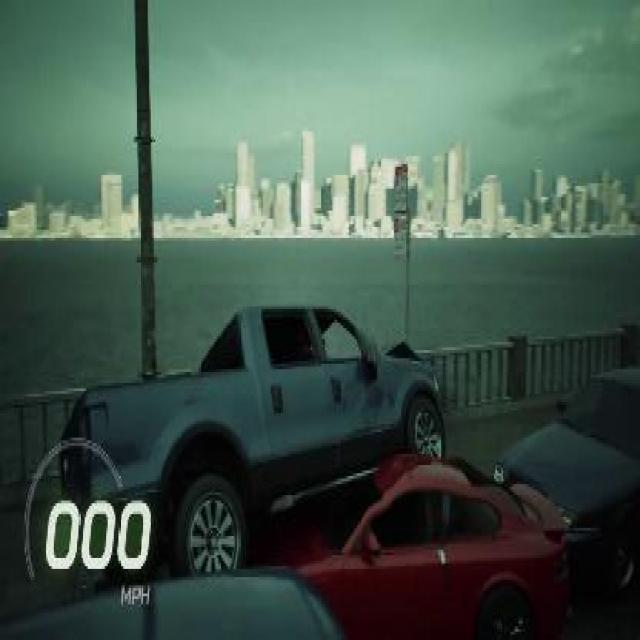accident: (50, 291, 639, 639)
